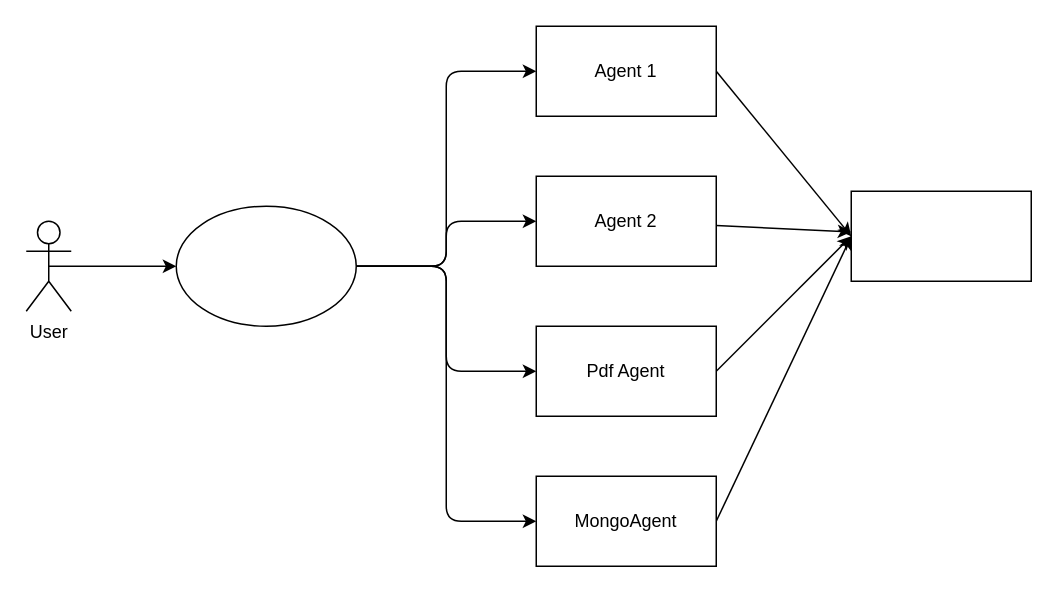
This 1058x593 diagram has some shape labels left out. The shapes that lost their labels are listed below. From the top down, each one's centre as x and y in pixels, then its label:
At point 940,235: "Response".
At point 265,265: "ReAct Prompting".
